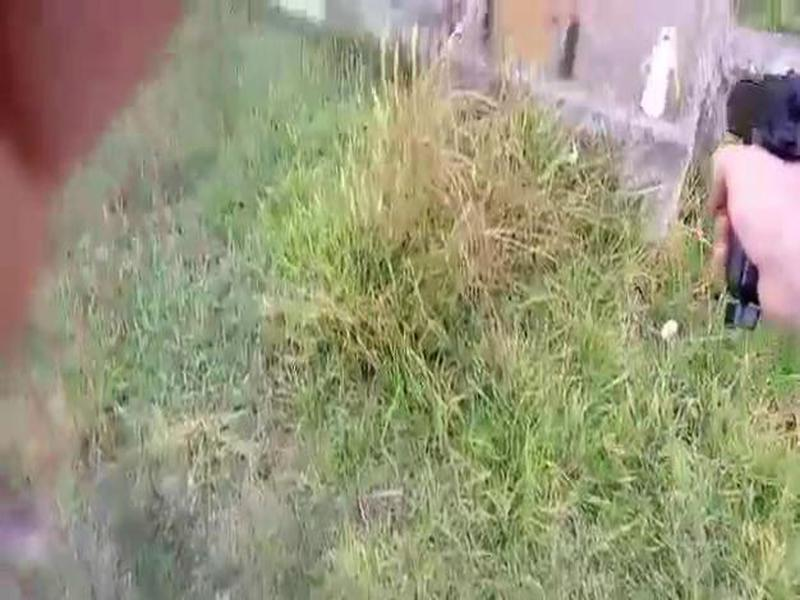Pistola: (705, 62, 800, 327)
